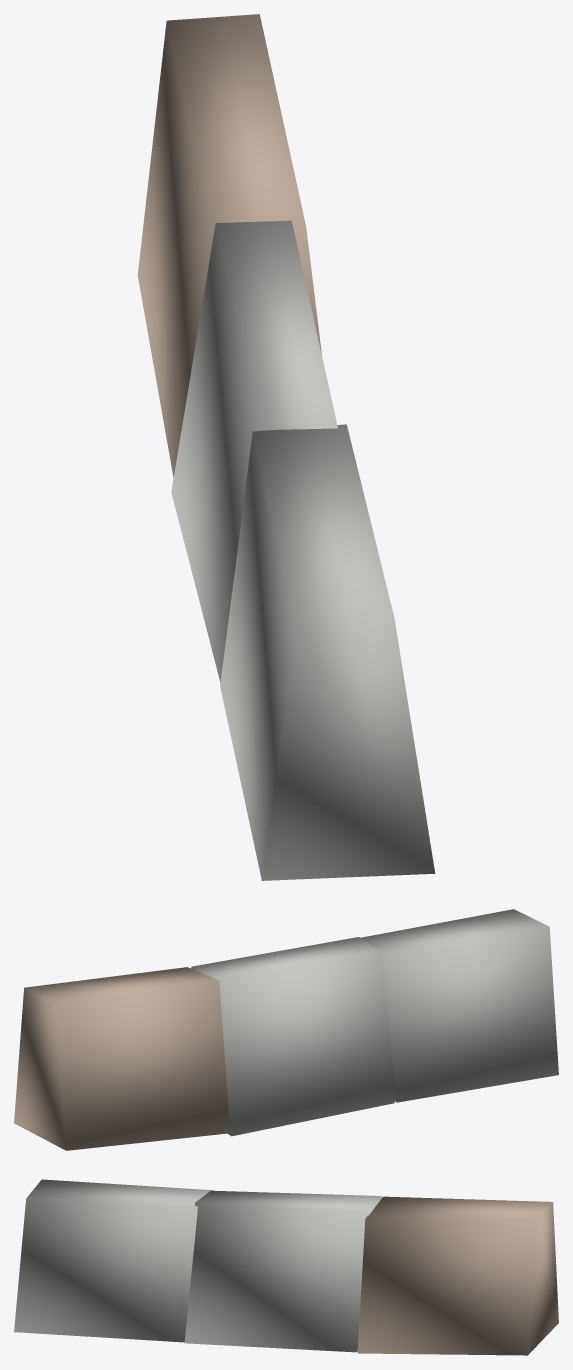
Rendered from farm_-55_-53_far.glb.
3 renders of one model, top to bottom at view 1: azimuth 30°, elevation 25°; view 2: azimuth 150°, elevation 25°; view 3: azimuth 270°, elevation 25°, orthographic. The views are drawn at different scales.
Parts seen in each view (by area): view 1: geometry_0; view 2: geometry_0; view 3: geometry_0.
Part boxes in pixels (x1,y1,x2,y2): geometry_0: [137, 14, 435, 880]; geometry_0: [14, 909, 558, 1150]; geometry_0: [14, 1179, 558, 1355].
Bounding box in the file's own units: 2.53 × 1.87 × 4.69.
